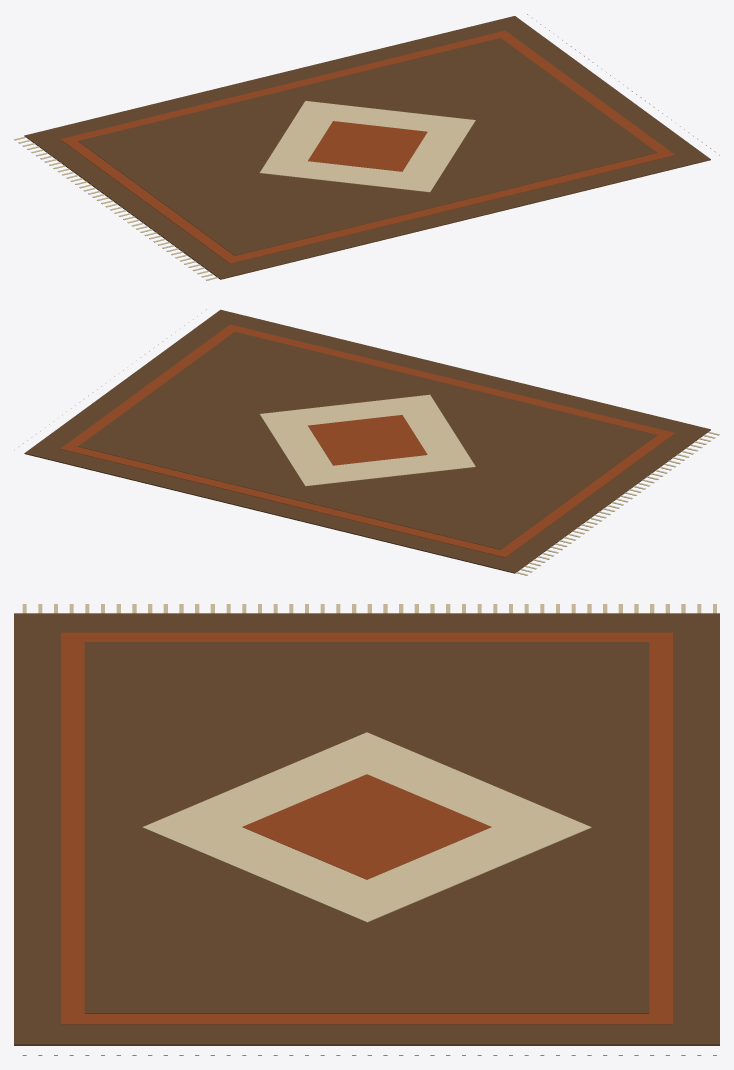
The model's file is SM_80s_RugLobby.glb.
The picture shows the model from 3 angles, top to bottom: view 1: azimuth 30°, elevation 25°; view 2: azimuth 150°, elevation 25°; view 3: azimuth 270°, elevation 25°; orthographic projection. The views are drawn at different scales.
Visible parts, largest first — view 1: SM_80s_RugLobby; view 2: SM_80s_RugLobby; view 3: SM_80s_RugLobby.
Boxes of the visible parts, box(x1,y1,x2,y2) form: SM_80s_RugLobby: box(14, 14, 719, 280); SM_80s_RugLobby: box(14, 309, 719, 575); SM_80s_RugLobby: box(14, 604, 719, 1055).
Size of the model in its own units: 3.59 by 0.013 by 2.38.
